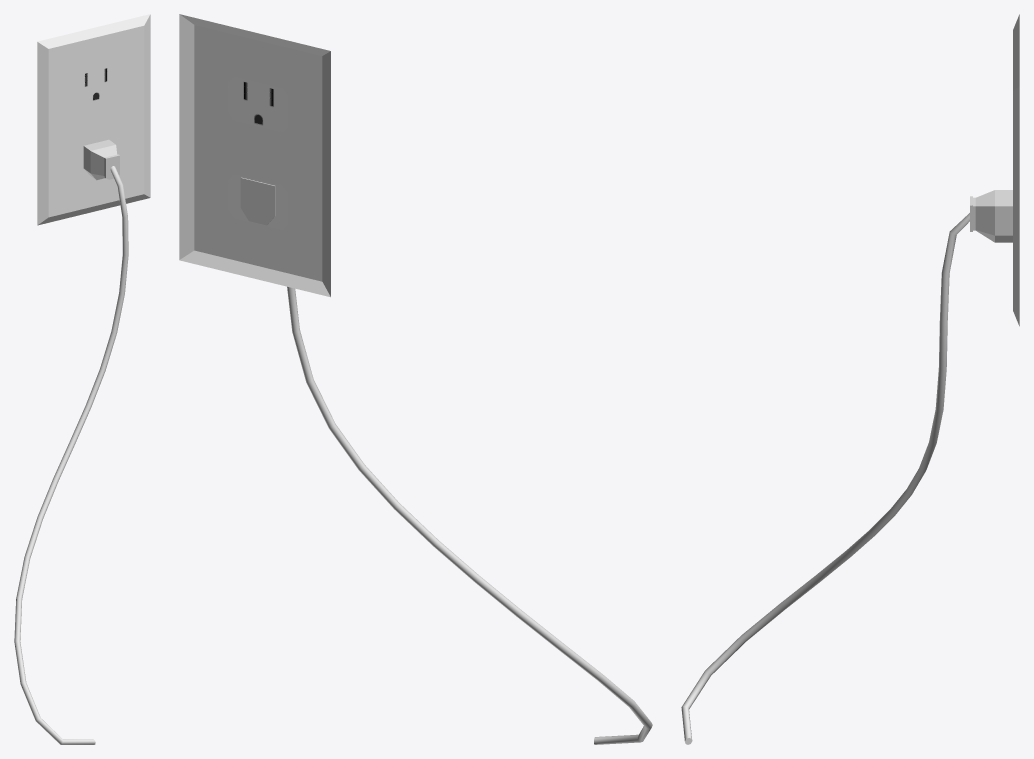
The model's file is Trouble_Light_Plug.fbx.
The picture shows the model from 3 angles, left to right: view 1: azimuth 30°, elevation 25°; view 2: azimuth 150°, elevation 25°; view 3: azimuth 270°, elevation 25°; orthographic projection. The views are drawn at different scales.
Visible parts, largest first — view 1: NurbsPath; view 2: NurbsPath; view 3: NurbsPath.
Boxes of the visible parts, x1,y1,x2,y2 form: NurbsPath: (14,14,150,744); NurbsPath: (179,14,652,744); NurbsPath: (681,14,1019,744).
Size of the model in its own units: 16.84 by 40.62 by 16.04.
